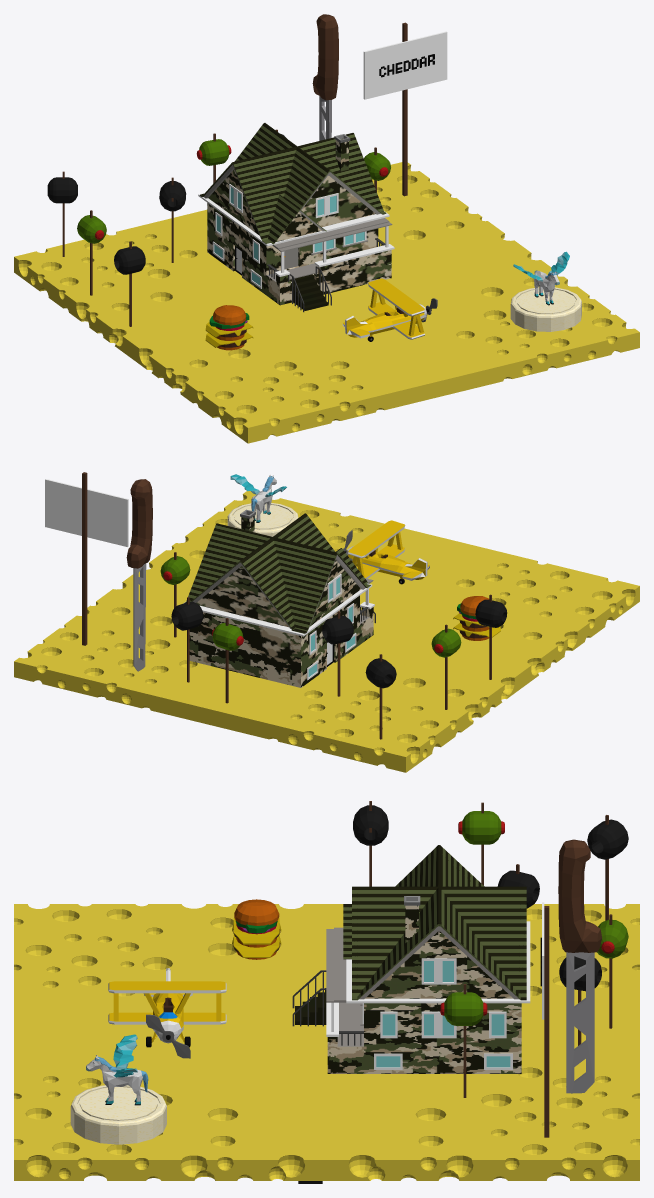
3 views of the same model, one above another, from view 1: azimuth 30°, elevation 25°; view 2: azimuth 150°, elevation 25°; view 3: azimuth 270°, elevation 25° (orthographic). The views are drawn at different scales.
Visible parts, largest first — view 1: Cube.022, Cube.001, Cube.023, VEHICLES_AIRPLANE, Cylinder.016, Cube.024, OBJRANDOM_HAMBURGER, ANIMAL_PEGASO, Sphere.017, Sphere.016, Sphere.020, Sphere.018 (+2 smaller); view 2: Cube.022, Cube.001, Cube.023, Cube.024, VEHICLES_AIRPLANE, Cylinder.016, OBJRANDOM_HAMBURGER, Sphere.020, Sphere.016, Sphere.022, ANIMAL_PEGASO, Sphere.017 (+3 smaller); view 3: Cube.022, Cube.001, Cube.024, VEHICLES_AIRPLANE, Cylinder.016, OBJRANDOM_HAMBURGER, ANIMAL_PEGASO, Cube.023, Sphere.019, Sphere.016, Sphere.018, Sphere.017 (+3 smaller).
Boxes of the visible parts, x1,y1,x2,y2 form: Cube.022: [14, 162, 639, 443]; Cube.001: [198, 123, 394, 312]; Cube.023: [363, 22, 447, 196]; VEHICLES_AIRPLANE: [342, 278, 437, 341]; Cylinder.016: [510, 287, 581, 331]; Cube.024: [312, 14, 338, 140]; OBJRANDOM_HAMBURGER: [205, 305, 253, 350]; ANIMAL_PEGASO: [513, 251, 569, 305]; Sphere.017: [114, 241, 145, 326]; Sphere.016: [47, 171, 77, 256]; Sphere.020: [159, 177, 186, 262]; Sphere.018: [77, 210, 106, 295]; Cube.022: [14, 491, 639, 772]; Cube.001: [183, 509, 375, 687]; Cube.023: [45, 472, 128, 645]; Cube.024: [126, 479, 152, 671]; VEHICLES_AIRPLANE: [343, 520, 429, 584]; Cylinder.016: [227, 503, 298, 536]; OBJRANDOM_HAMBURGER: [453, 596, 500, 640]; Sphere.020: [322, 611, 353, 696]; Sphere.016: [365, 654, 396, 739]; Sphere.022: [212, 618, 243, 703]; ANIMAL_PEGASO: [230, 474, 286, 522]; Sphere.017: [475, 594, 507, 679]; Cube.022: [14, 904, 639, 1180]; Cube.001: [292, 845, 530, 1073]; Cube.024: [558, 839, 601, 1093]; VEHICLES_AIRPLANE: [108, 968, 226, 1058]; Cylinder.016: [70, 1085, 166, 1144]; OBJRANDOM_HAMBURGER: [232, 899, 281, 959]; ANIMAL_PEGASO: [86, 1034, 148, 1105]; Cube.023: [540, 902, 549, 1137]; Sphere.019: [440, 984, 487, 1097]; Sphere.016: [587, 815, 628, 920]; Sphere.018: [458, 802, 504, 885]; Sphere.017: [353, 801, 388, 886].
Size of the model in its own units: 3917 by 2015 by 4000.
Materials: 43 (5 with a texture image).
